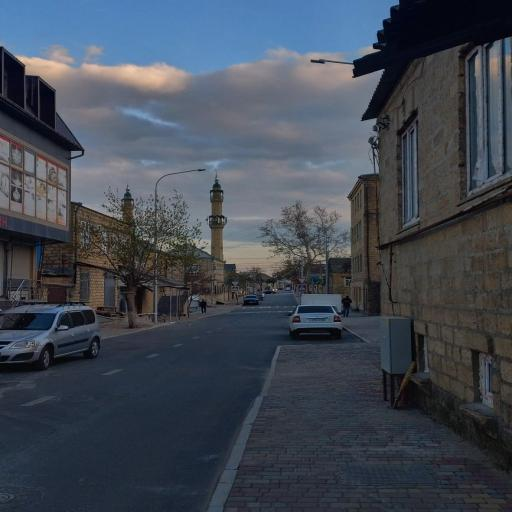book: (0, 302, 101, 374), (288, 302, 358, 344)
glass_wall: (0, 285, 301, 512), (206, 309, 512, 512)
